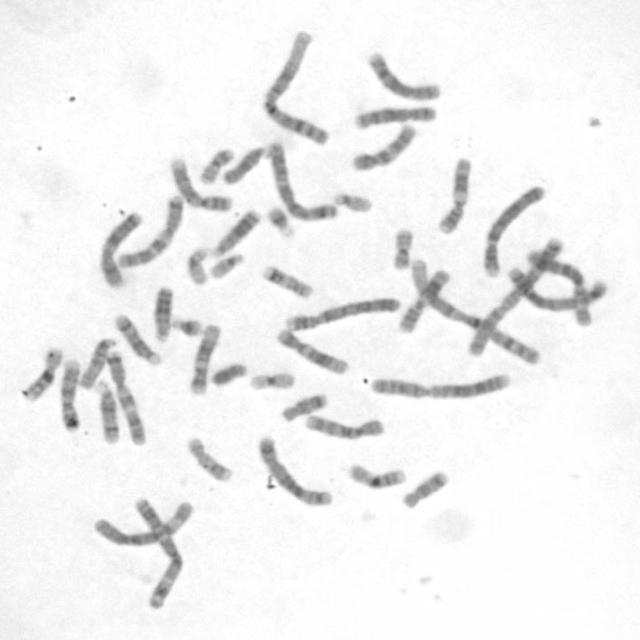A1: (410, 258, 542, 366), (263, 30, 334, 147)
A2: (464, 235, 568, 361), (370, 371, 516, 402)
A3: (132, 494, 186, 611), (266, 138, 341, 222)
B4: (480, 183, 550, 280), (284, 295, 402, 334)
B5: (258, 433, 336, 508), (506, 266, 608, 312)
C10: (352, 122, 418, 173), (303, 412, 388, 443)
C11: (398, 268, 452, 335), (436, 155, 473, 237)
C12: (274, 328, 352, 377), (189, 321, 222, 395)
C6: (523, 246, 597, 328), (90, 499, 196, 550)
C7: (116, 194, 186, 271), (102, 349, 149, 448)
C8: (364, 50, 444, 101), (354, 104, 439, 131)
C9: (166, 156, 235, 214), (56, 357, 84, 432)
D13: (207, 209, 263, 259), (152, 284, 174, 342)
D14: (110, 312, 163, 367), (93, 379, 123, 445)
D15: (75, 335, 120, 392), (222, 142, 277, 186)
E16: (20, 343, 64, 404), (346, 462, 408, 492)
E17: (184, 433, 233, 482), (260, 262, 316, 301)
E18: (400, 471, 451, 509), (280, 390, 328, 424)
F19: (185, 241, 215, 289), (246, 371, 296, 392)
F20: (198, 146, 236, 186), (391, 227, 415, 270)
G21: (266, 204, 297, 240), (172, 316, 204, 338)
G22: (209, 250, 250, 280), (334, 191, 375, 215)
X: (99, 212, 144, 288)
Y: (208, 360, 248, 388)
